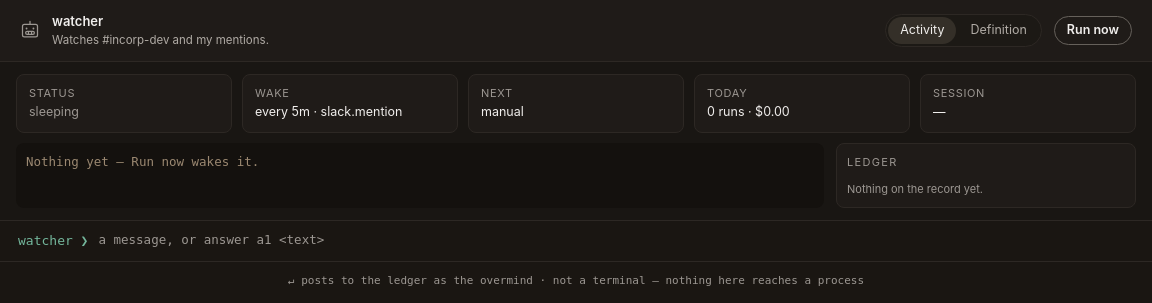
Test case: AgentPage — Run now › says why a run refused as saturated, on Activity
What coordinates should you click on to do the following:
click the button "Run now"
I would click on:
 (1093, 30)
Its box is [1054,16,1132,45].
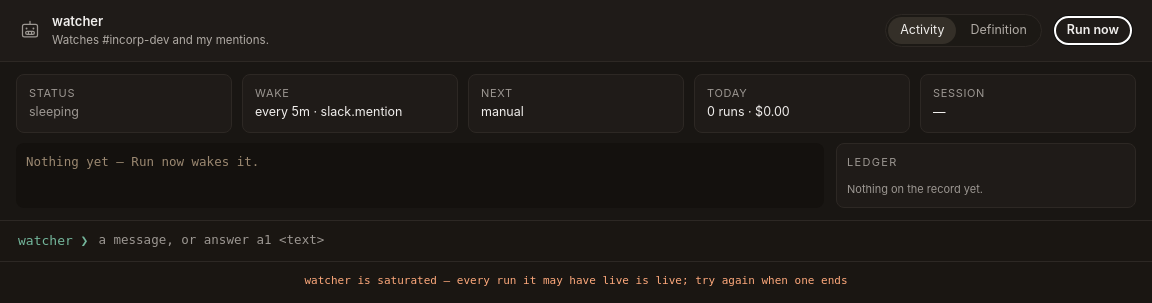
Expected: the message shows "is saturated", [304,274,848,286]
